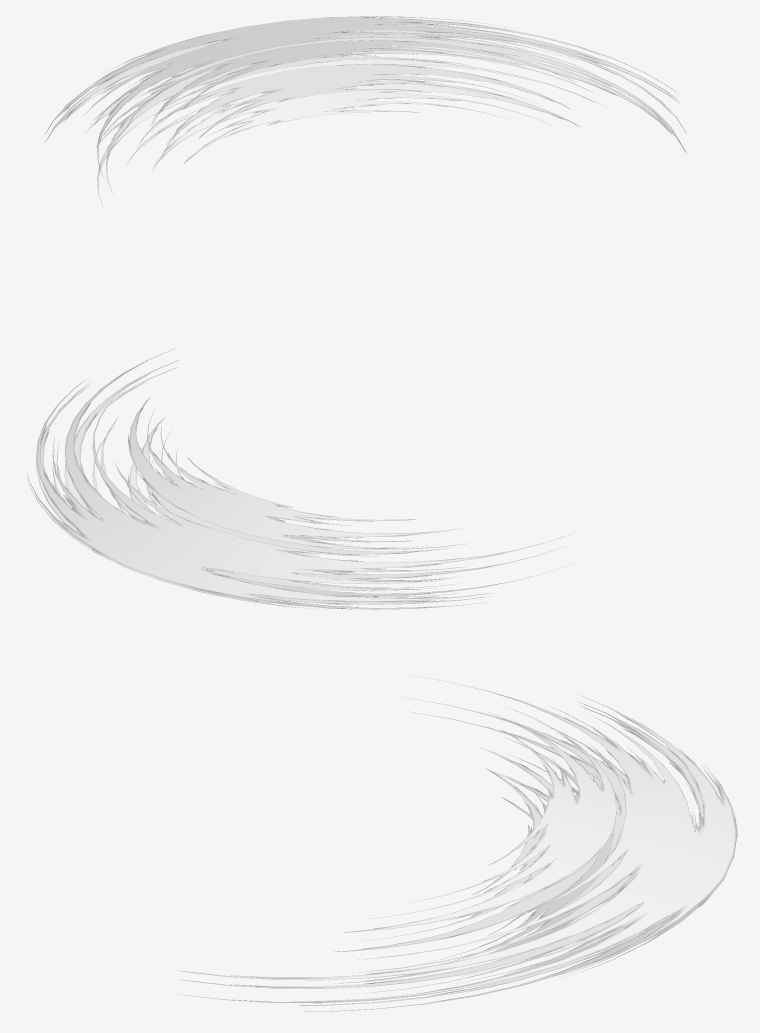
File: eff_zan000_mesh.fbx
3 views of the same model, one above another, from view 1: azimuth 30°, elevation 25°; view 2: azimuth 150°, elevation 25°; view 3: azimuth 270°, elevation 25° (orthographic). The views are drawn at different scales.
Visible parts, largest first — view 1: eff_zan000_mesh; view 2: eff_zan000_mesh; view 3: eff_zan000_mesh.
Boxes of the visible parts, x1,y1,x2,y2 form: eff_zan000_mesh: [45, 16, 686, 208]; eff_zan000_mesh: [27, 348, 576, 609]; eff_zan000_mesh: [179, 674, 737, 1011].
Bounding box in the file's own units: 824 × 75.08 × 679.
